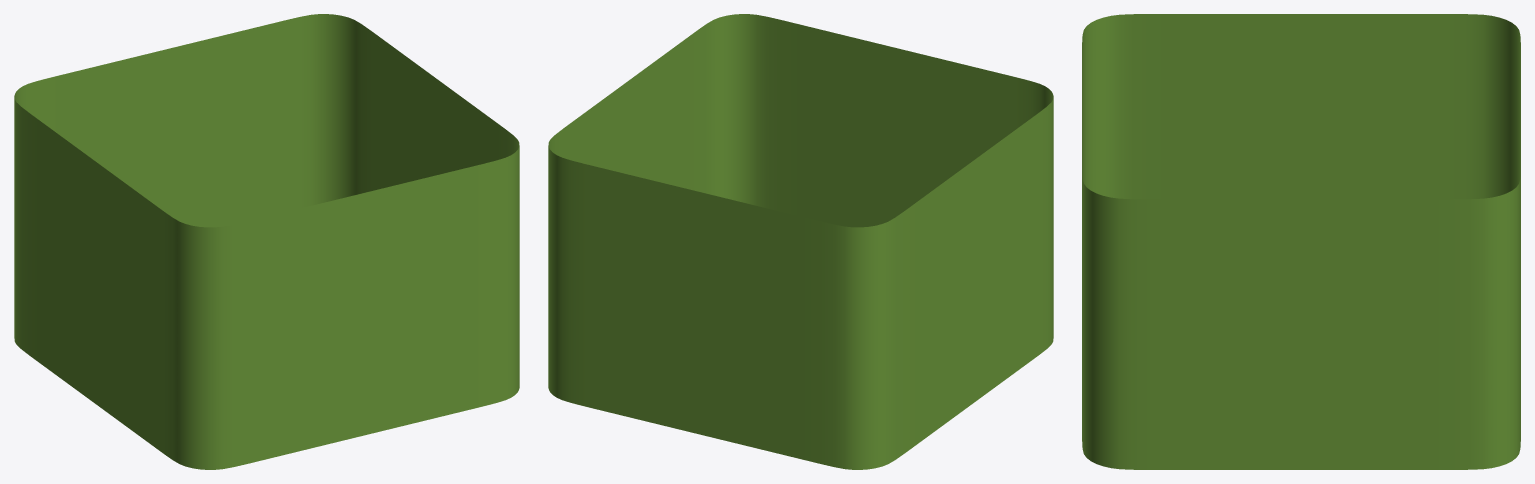
The model's file is SM_TowerBush_01_Main.fbx.
3 renders of one model, left to right at view 1: azimuth 30°, elevation 25°; view 2: azimuth 150°, elevation 25°; view 3: azimuth 270°, elevation 25°, orthographic. The views are drawn at different scales.
Parts seen in each view (by area): view 1: polySurface1; view 2: polySurface1; view 3: polySurface1.
Boxes of the visible parts, left/top/right/bottom form: polySurface1: left=14, top=14, right=519, bottom=469; polySurface1: left=548, top=14, right=1053, bottom=469; polySurface1: left=1082, top=14, right=1520, bottom=469.
Size of the model in its own units: 101 by 101 by 68.78.
